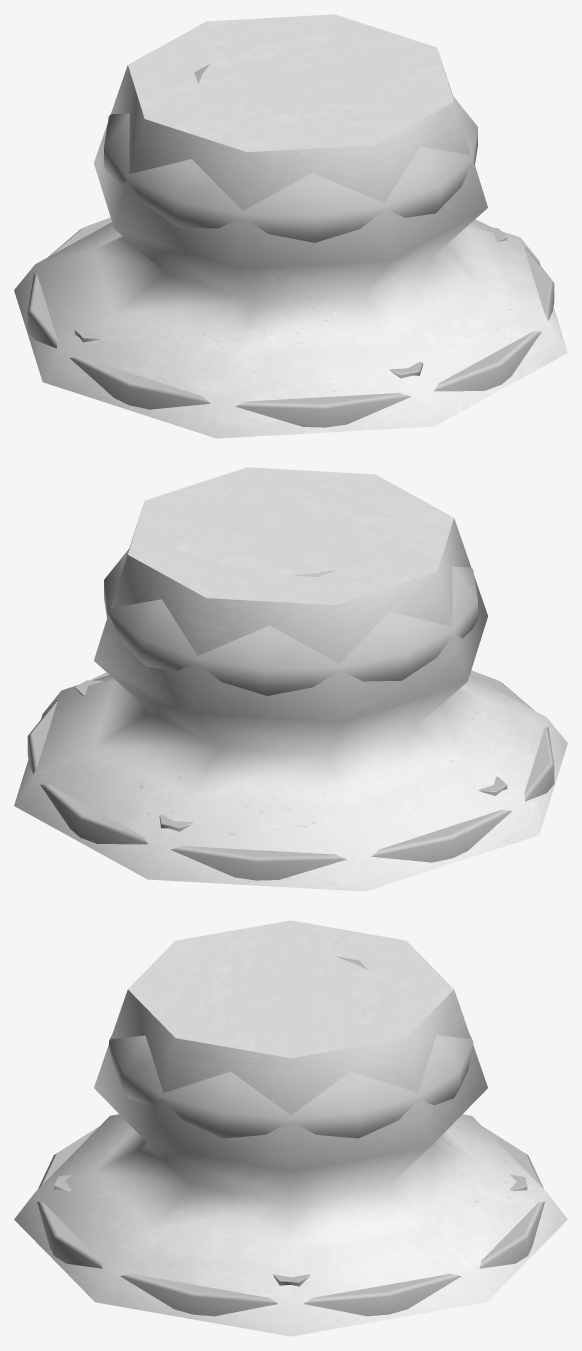
Rendered from si_bollard.DAE.
The picture shows the model from 3 angles, top to bottom: view 1: azimuth 30°, elevation 25°; view 2: azimuth 150°, elevation 25°; view 3: azimuth 270°, elevation 25°; orthographic projection. The views are drawn at different scales.
Visible parts, largest first — view 1: Colmesh-1, si_bollard60; view 2: Colmesh-1, si_bollard60; view 3: Colmesh-1, si_bollard60.
Part boxes in pixels (bbox=[...]): Colmesh-1: bbox=[14, 14, 567, 438]; si_bollard60: bbox=[27, 64, 554, 427]; Colmesh-1: bbox=[14, 467, 567, 891]; si_bollard60: bbox=[27, 549, 554, 880]; Colmesh-1: bbox=[14, 920, 567, 1336]; si_bollard60: bbox=[37, 956, 544, 1316].
Size of the model in its own units: 87.4 by 87.4 by 40.1.
